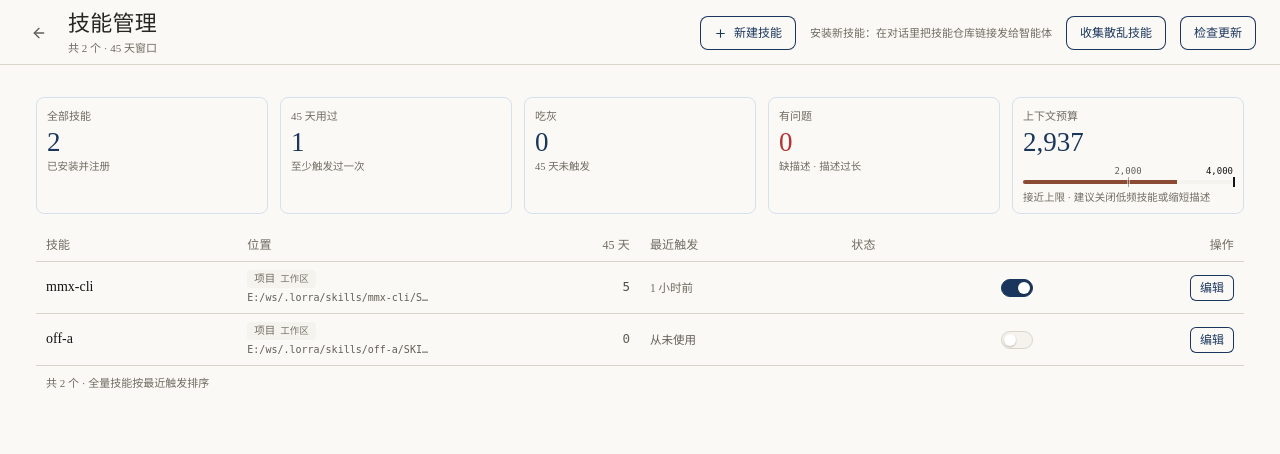
Test: Requirement: 本工作区开关(setWsEnabled IPC) › Given setWsEnabled 失败 When 点击 Then 开关状态不变 + 页内动作错误横幅展示 LorraError 文案
Step 1. Click the checkbox with test id "skills-toggle" → (1017, 288), box [1001, 279, 1033, 297]
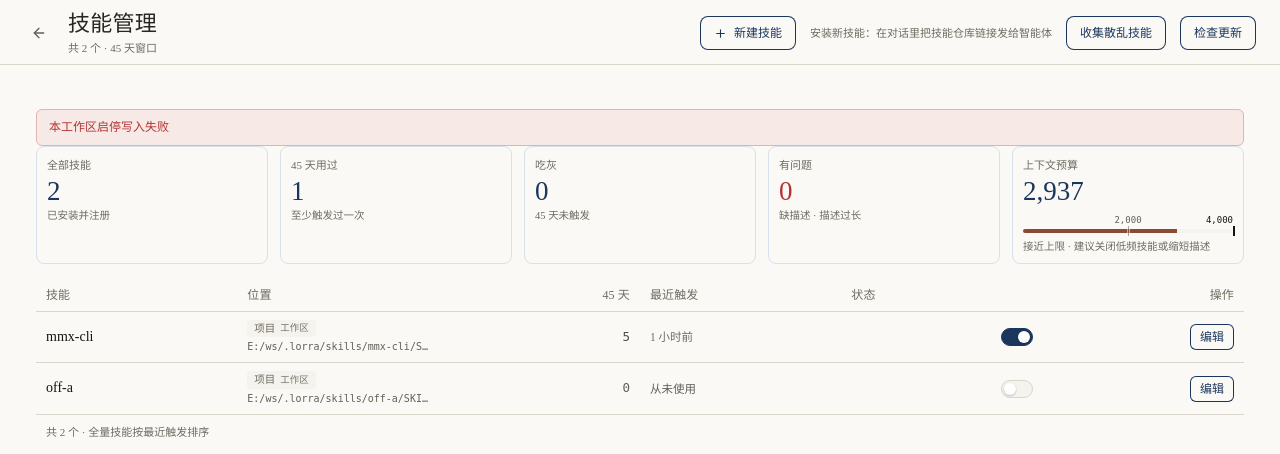
Expected: the checkbox with test id "skills-toggle" is checked, [1001, 328, 1033, 346]
Result: the message with test id "skills-action-error" reads "本工作区启停写入失败" at [49, 120, 169, 134]
